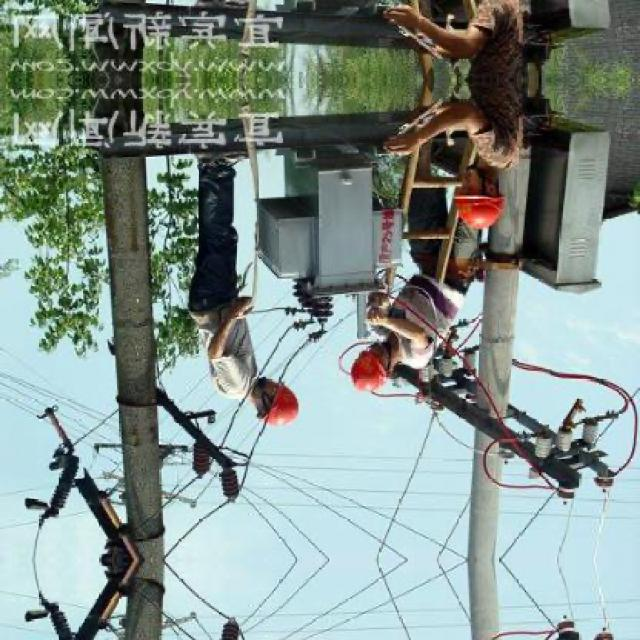con casco: (188, 354, 328, 444), (427, 132, 537, 235), (317, 321, 420, 416)
